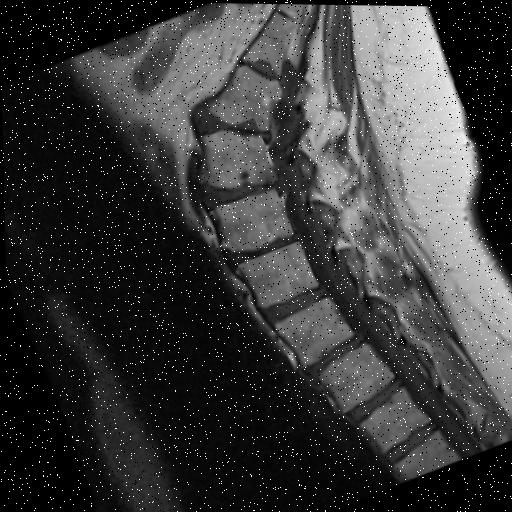L1: (316, 342, 391, 411)
L2: (272, 295, 350, 366)
L3: (235, 239, 315, 306)
L4: (208, 188, 292, 249)
L5: (197, 129, 273, 187)
S1: (206, 63, 278, 129)
